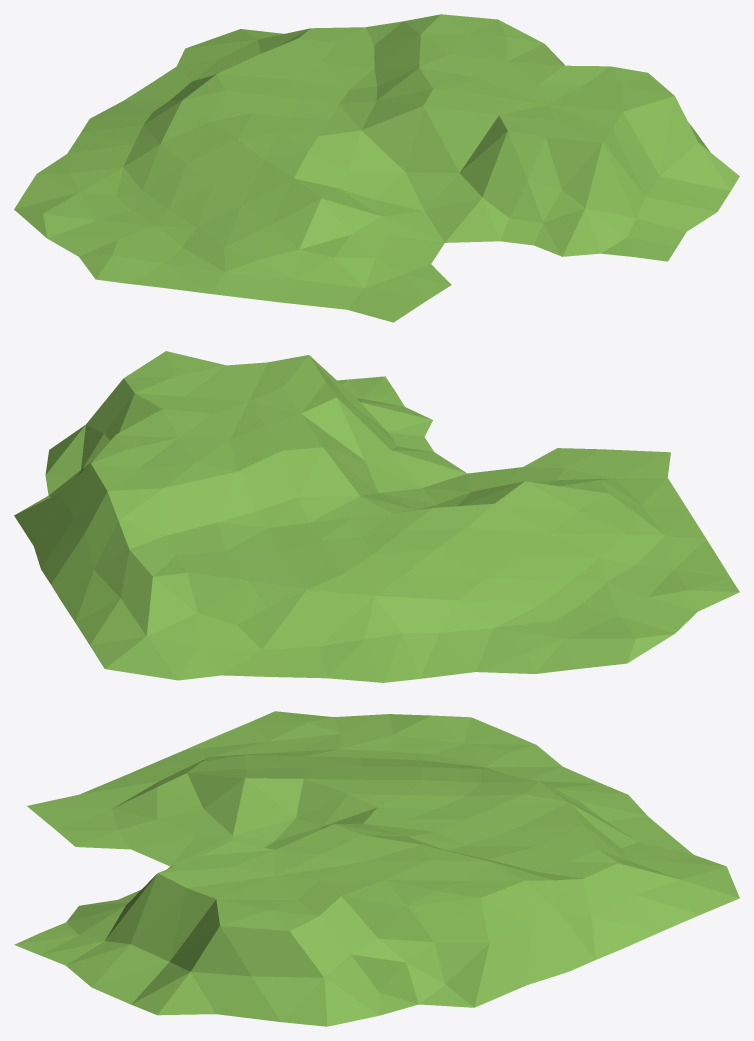
File: MT_Mountain_L_c_13.fbx
The picture shows the model from 3 angles, top to bottom: view 1: azimuth 30°, elevation 25°; view 2: azimuth 150°, elevation 25°; view 3: azimuth 270°, elevation 25°; orthographic projection. The views are drawn at different scales.
Parts seen in each view (by area): view 1: MT_Mountain_L_c_13; view 2: MT_Mountain_L_c_13; view 3: MT_Mountain_L_c_13.
Boxes of the visible parts, x1,y1,x2,y2 form: MT_Mountain_L_c_13: (14,14,739,322); MT_Mountain_L_c_13: (14,351,739,682); MT_Mountain_L_c_13: (14,711,739,1026).
Bounding box in the file's own units: 4455 × 493 × 4333.
